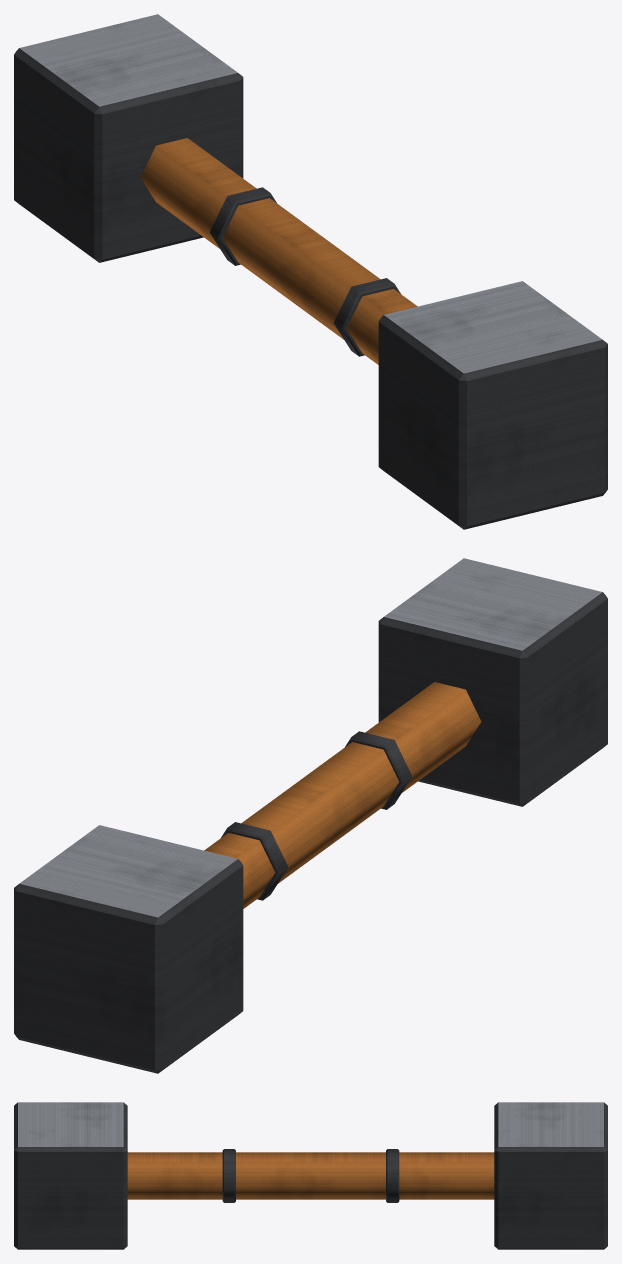
Rendered from R4C_STRUT_LONG_LOD1.glb.
The picture shows the model from 3 angles, top to bottom: view 1: azimuth 30°, elevation 25°; view 2: azimuth 150°, elevation 25°; view 3: azimuth 270°, elevation 25°; orthographic projection. The views are drawn at different scales.
Parts seen in each view (by area): view 1: R4C_STRUT_LONG_LOD1; view 2: R4C_STRUT_LONG_LOD1; view 3: R4C_STRUT_LONG_LOD1.
Boxes of the visible parts, left/top/right/bottom form: R4C_STRUT_LONG_LOD1: left=14, top=14, right=607, bottom=529; R4C_STRUT_LONG_LOD1: left=14, top=558, right=607, bottom=1073; R4C_STRUT_LONG_LOD1: left=14, top=1102, right=607, bottom=1249.
Bounding box in the file's own units: 0.52 × 0.52 × 2.72.
3 materials, 3 textured.
